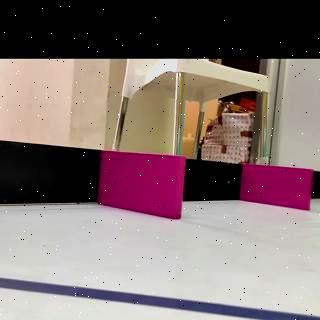xparking: (102, 156, 182, 212), (246, 169, 311, 209)
